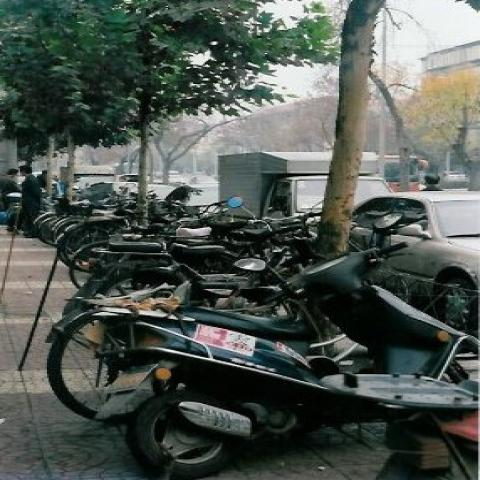car: (308, 190, 479, 336), (105, 173, 175, 199), (443, 170, 470, 188)
motorcycle: (86, 243, 472, 464), (64, 240, 478, 443), (229, 197, 329, 277), (168, 256, 298, 314), (36, 192, 127, 246), (162, 194, 221, 222)
truck: (218, 152, 393, 218)
